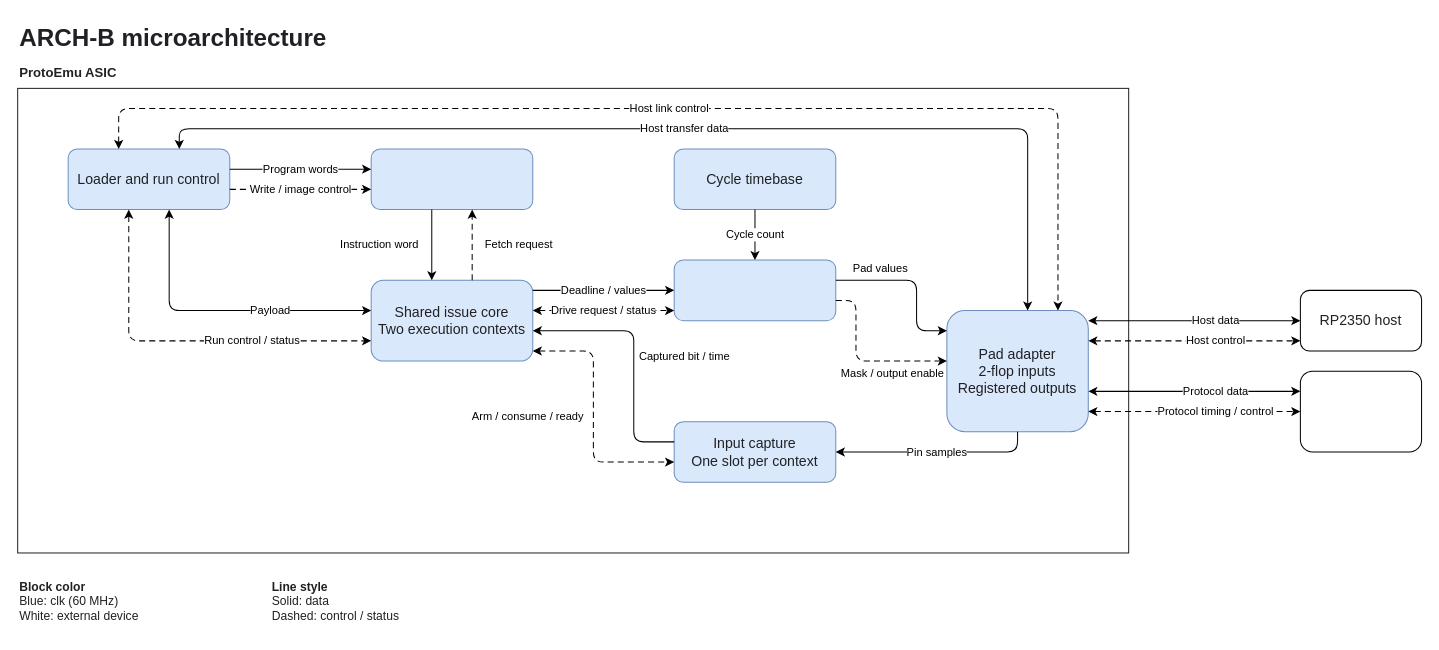
The diagram is 1439 pixels wide and 650 high, and some of its shapes have lost their labels. Here are the shapes that lost their labels. From the top down, the box of each, then its label:
(370, 148, 533, 210): Shared program store 128 × 24-bit words
(673, 259, 836, 321): Timed output queue Four deadline slots
(1299, 370, 1422, 452): Protocol peers
